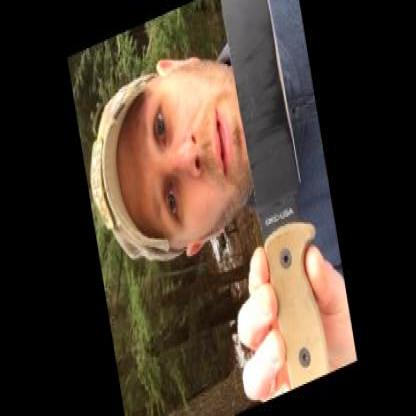knife: (181, 0, 341, 409)
